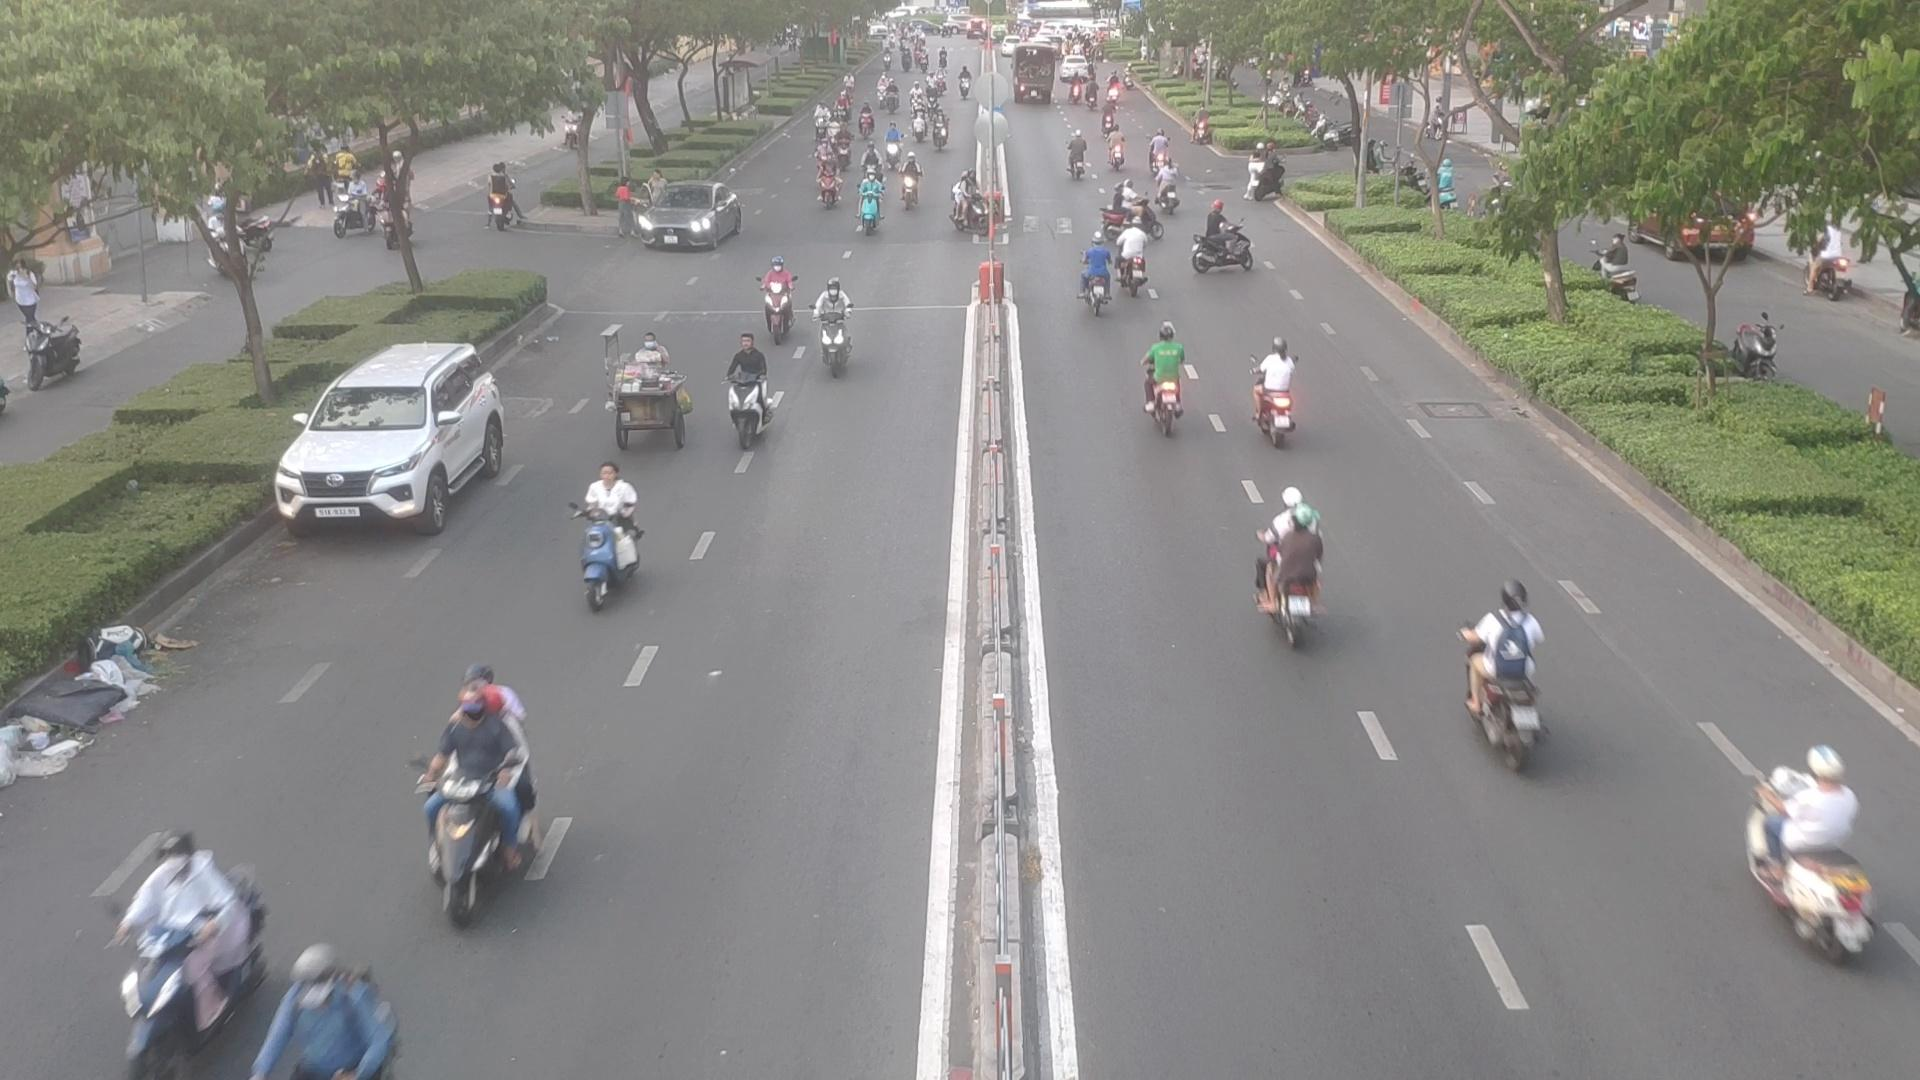car: (278, 339, 520, 527), (618, 189, 750, 255)
motorbike: (108, 831, 268, 1079), (411, 674, 549, 915), (1745, 744, 1884, 959), (262, 949, 418, 1077), (1460, 596, 1561, 771), (1244, 487, 1335, 642), (571, 465, 653, 595), (712, 334, 777, 447), (1135, 328, 1203, 430), (810, 281, 869, 375), (1249, 343, 1302, 442), (1195, 215, 1261, 274), (1071, 243, 1120, 316), (1114, 214, 1154, 299), (752, 261, 796, 331), (856, 174, 890, 229), (1063, 135, 1095, 179), (1154, 167, 1183, 214)
